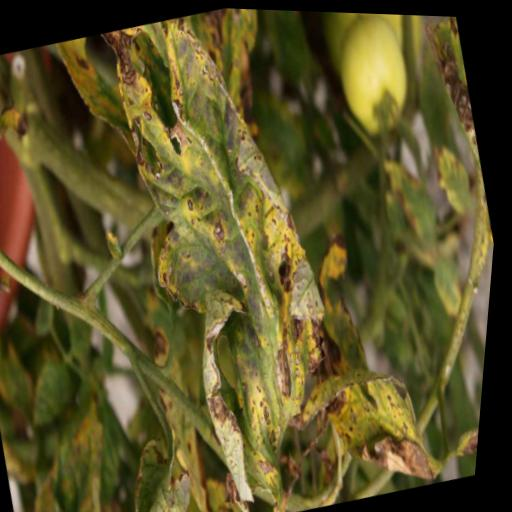Septoria: (76, 3, 393, 512), (319, 348, 465, 503)
